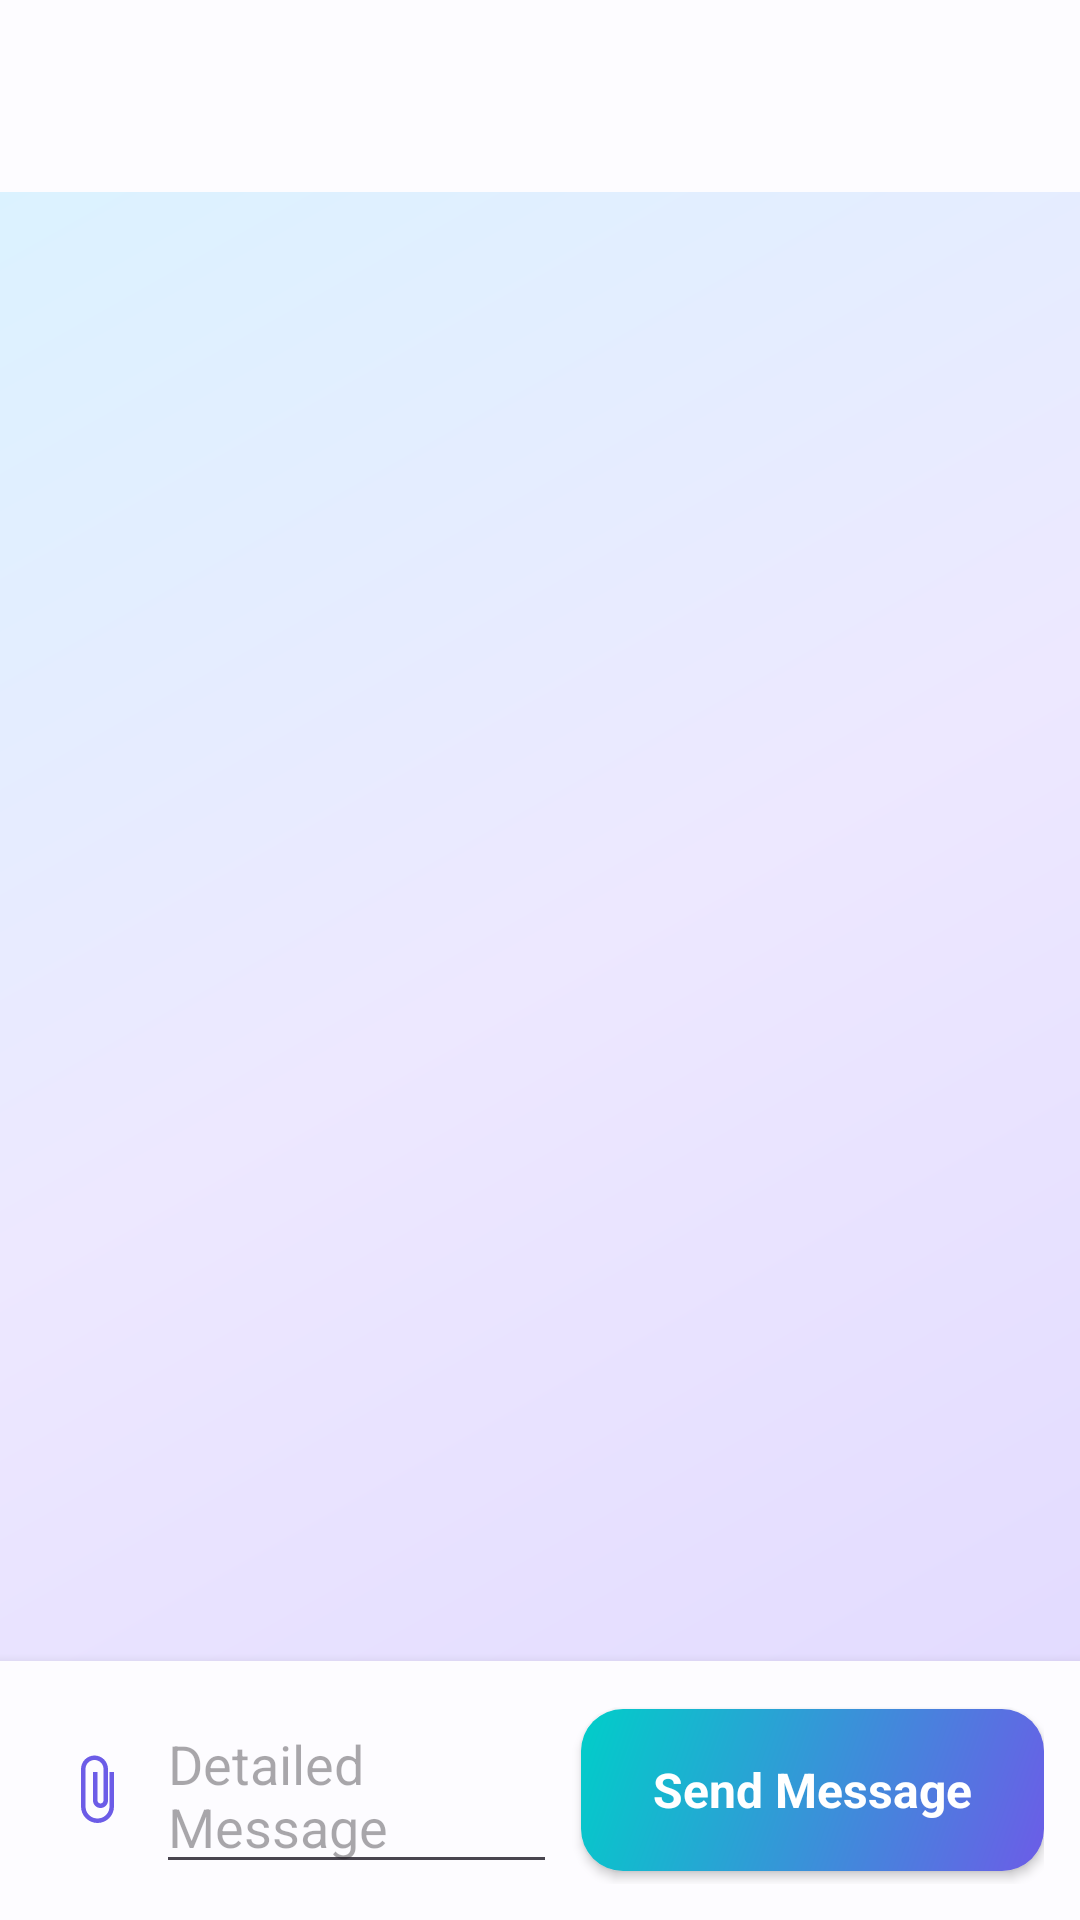

Icon click points for this 1080×1920 phone screenshot, format [x,y]:
Attach file: [97,1789]
